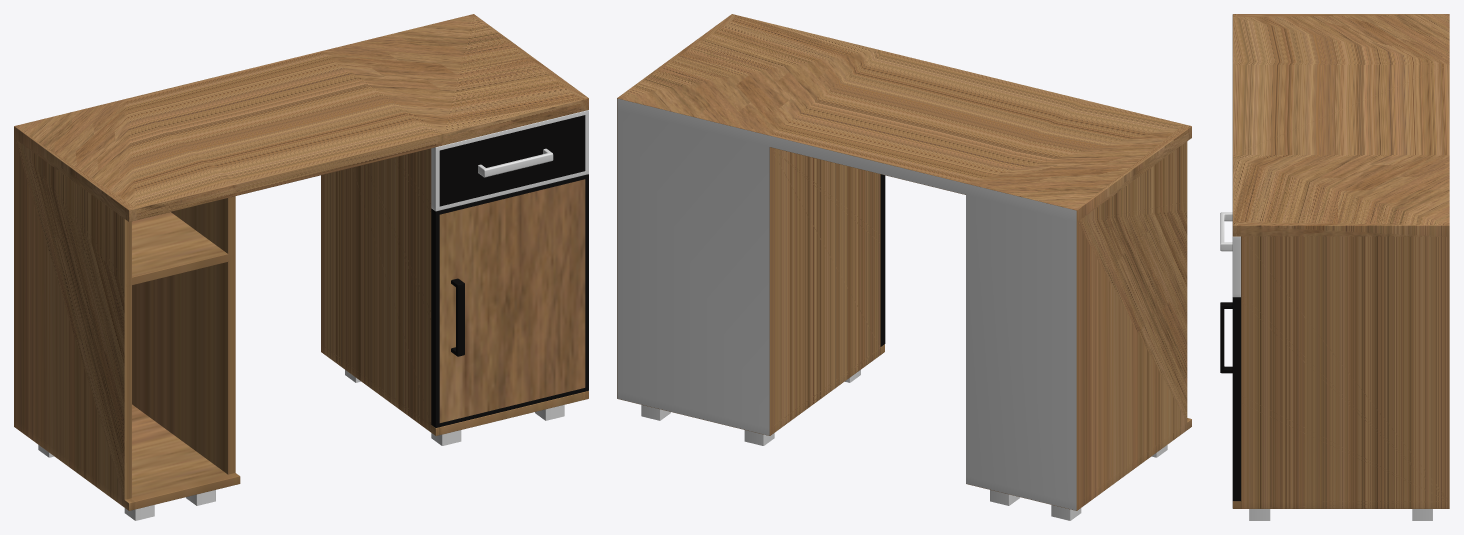
The model's file is desk.glb.
3 views of the same model, side by side, from view 1: azimuth 30°, elevation 25°; view 2: azimuth 150°, elevation 25°; view 3: azimuth 270°, elevation 25° (orthographic). The views are drawn at different scales.
Parts seen in each view (by area): view 1: Home desk; view 2: Home desk; view 3: Home desk.
Boxes of the visible parts, <box> form: Home desk: <box>14,14,588,520</box>; Home desk: <box>617,14,1191,520</box>; Home desk: <box>1220,14,1449,520</box>.
Bounding box in the file's own units: 1.2 × 0.8 × 0.55.
Materials: 9 (2 with a texture image).
